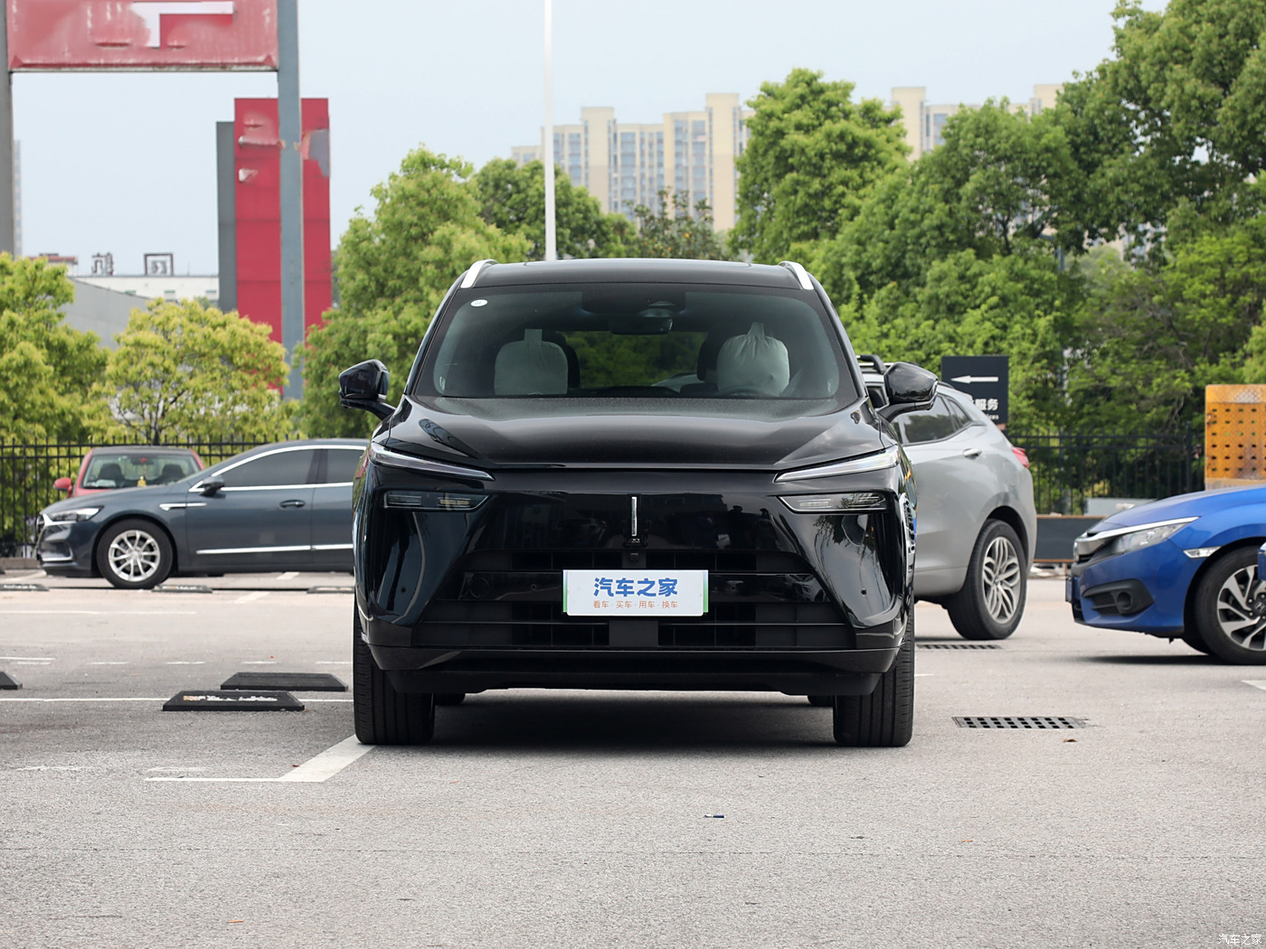WEY: (628, 493, 642, 544)
